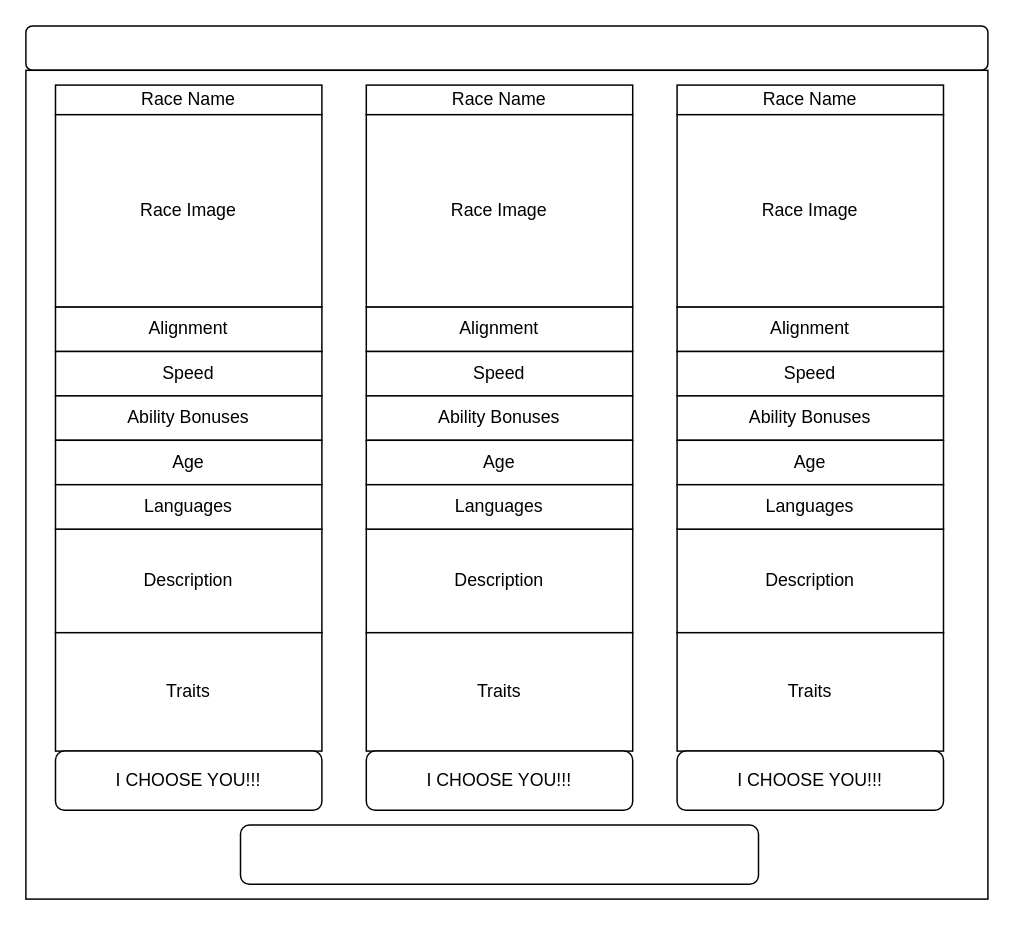
The diagram is 1014 pixels wide and 925 high, and some of its shapes have lost their labels. Each missing label, with the centre of its shape:
http://localhost:3000/create_character/choose_race: pixel 506 47
I HATE ALL OF THESE, TAKE ME BACK: pixel 498 854
